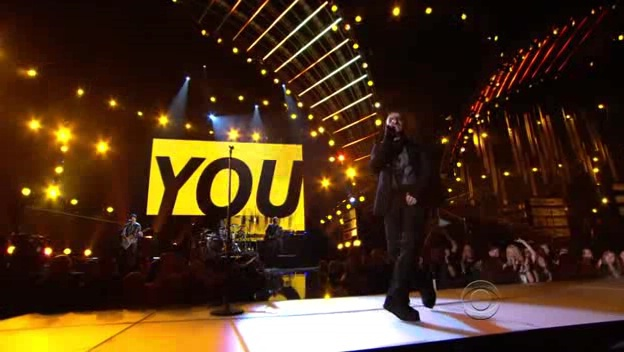person: (366, 109, 432, 219), (363, 109, 429, 219), (369, 109, 435, 219), (366, 106, 432, 216), (366, 112, 432, 222)
target_negative: (285, 186, 520, 309), (5, 153, 255, 232), (180, 224, 585, 246), (263, 306, 562, 308), (607, 33, 624, 67), (616, 25, 623, 53)
